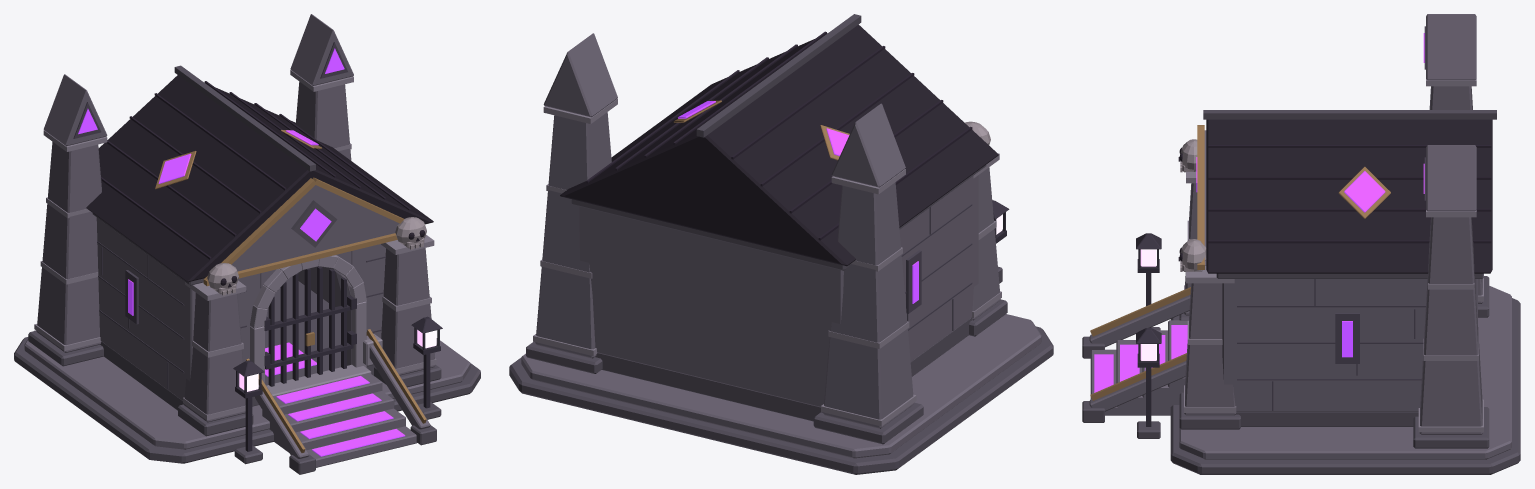
The model's file is Crypt-optimized.glb.
The picture shows the model from 3 angles, left to right: view 1: azimuth 30°, elevation 25°; view 2: azimuth 150°, elevation 25°; view 3: azimuth 270°, elevation 25°; orthographic projection. The views are drawn at different scales.
Visible parts, largest first — view 1: Crypt_StoneAndRoof, Crypt_Iron, Crypt_VioletInlays, Crypt_Bronze, Crypt_LanternLight; view 2: Crypt_StoneAndRoof, Crypt_VioletInlays; view 3: Crypt_StoneAndRoof, Crypt_VioletInlays, Crypt_Bronze, Crypt_Iron, Crypt_LanternLight.
Part boxes in pixels (<box>): Crypt_StoneAndRoof: <box>14,14,480,474</box>; Crypt_Iron: <box>233,266,442,451</box>; Crypt_VioletInlays: <box>78,48,405,456</box>; Crypt_Bronze: <box>155,130,426,452</box>; Crypt_LanternLight: <box>239,330,436,391</box>; Crypt_StoneAndRoof: <box>509,14,1053,474</box>; Crypt_VioletInlays: <box>678,101,918,303</box>; Crypt_StoneAndRoof: <box>1082,14,1520,474</box>; Crypt_VioletInlays: <box>1094,33,1424,392</box>; Crypt_Bronze: <box>1090,125,1390,400</box>; Crypt_Iron: <box>1136,233,1161,426</box>; Crypt_LanternLight: <box>1140,249,1156,360</box>.
Bounding box in the file's own units: 10.9 × 8.83 × 11.4.
